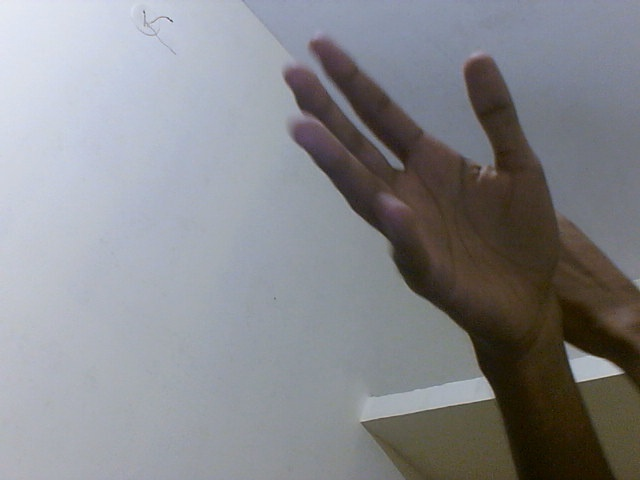hand: (280, 30, 569, 367)
